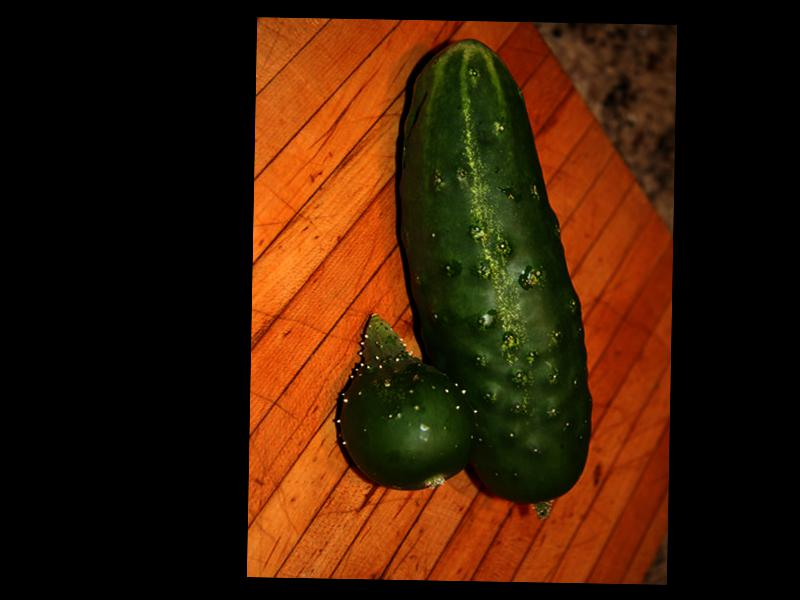Cucumber: (391, 37, 598, 505)
